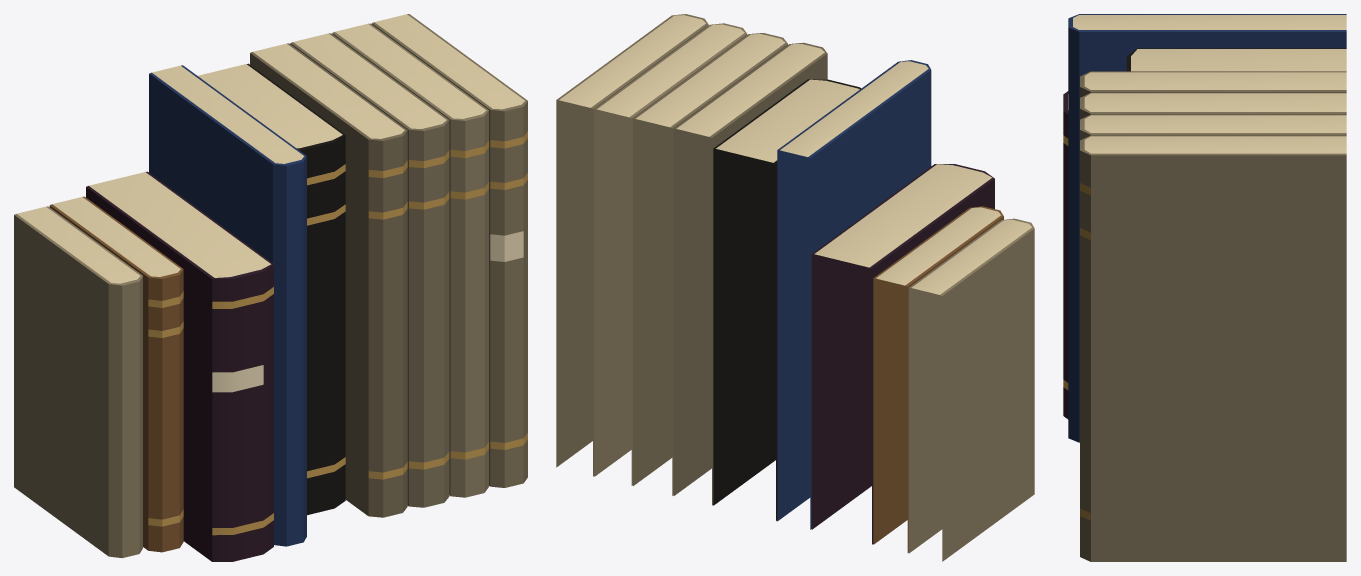
Rendered from bookrow_tall_5.glb.
3 views of the same model, side by side, from view 1: azimuth 30°, elevation 25°; view 2: azimuth 150°, elevation 25°; view 3: azimuth 270°, elevation 25° (orthographic). The views are drawn at different scales.
Parts seen in each view (by area): view 1: bookrow_tall_5; view 2: bookrow_tall_5; view 3: bookrow_tall_5.
Part boxes in pixels (x1=…): bookrow_tall_5: x1=14, y1=14, x2=527, y2=561; bookrow_tall_5: x1=556, y1=14, x2=1034, y2=561; bookrow_tall_5: x1=1063, y1=14, x2=1346, y2=561.
Bounding box in the file's own units: 0.465 × 0.4282 × 0.2672.
